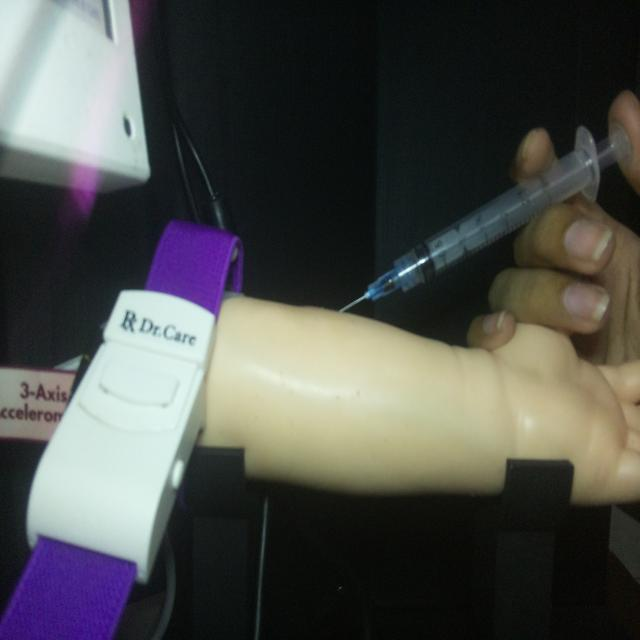22 degrees: (337, 118, 633, 315)
